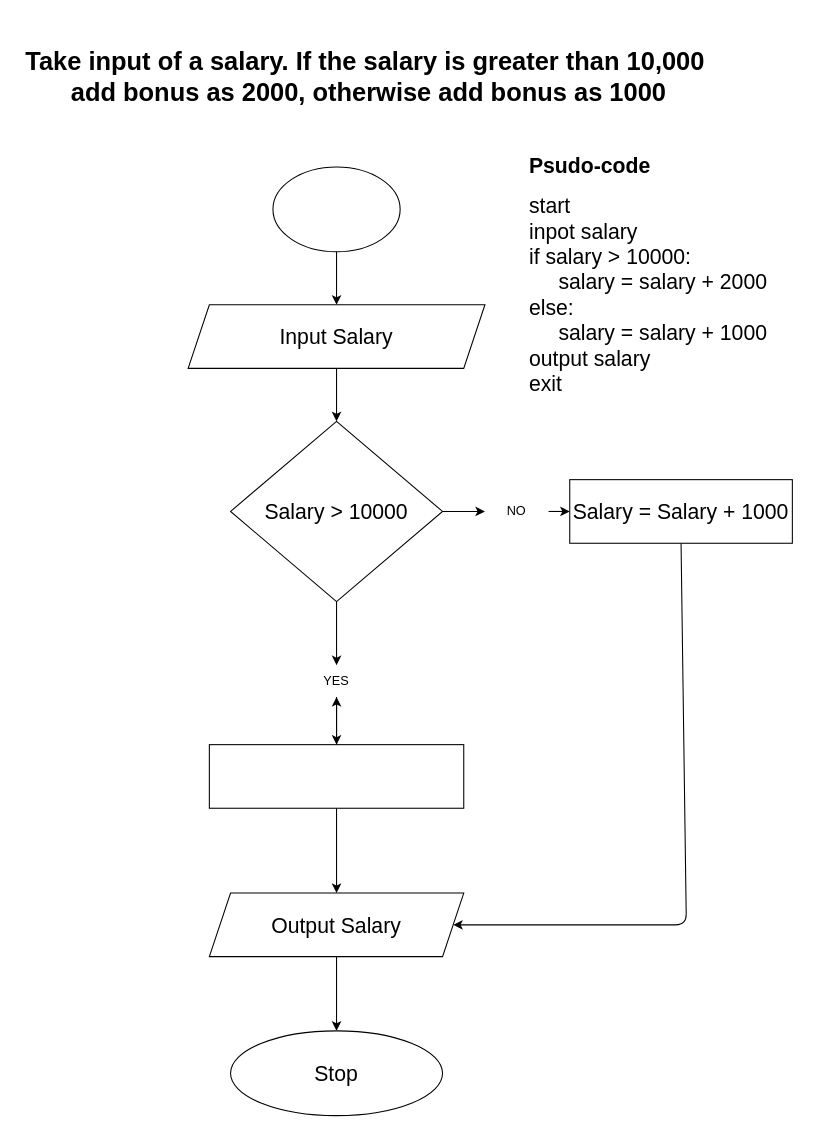
This 820x1134 diagram has some shape labels left out. Here are the shapes that lost their labels. From the top down, the box of each, then its label:
(272, 166, 400, 252): Start
(208, 744, 464, 808): Salary = Salary + 2000
